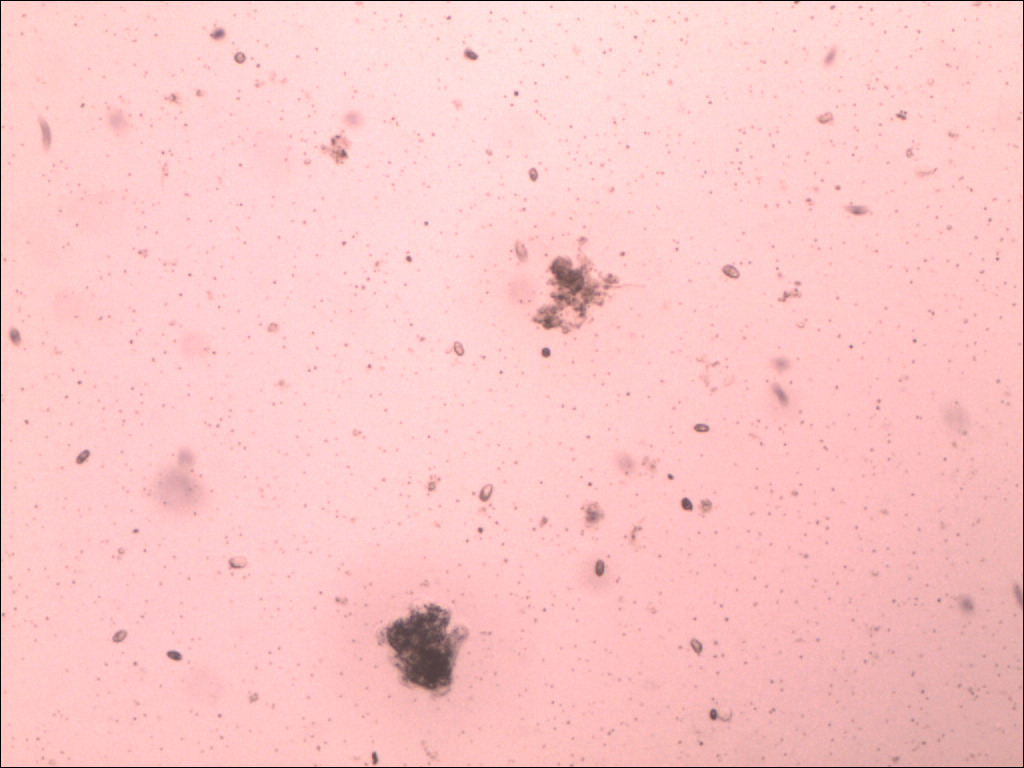amoeba: (372, 597, 478, 704), (531, 249, 627, 339)
